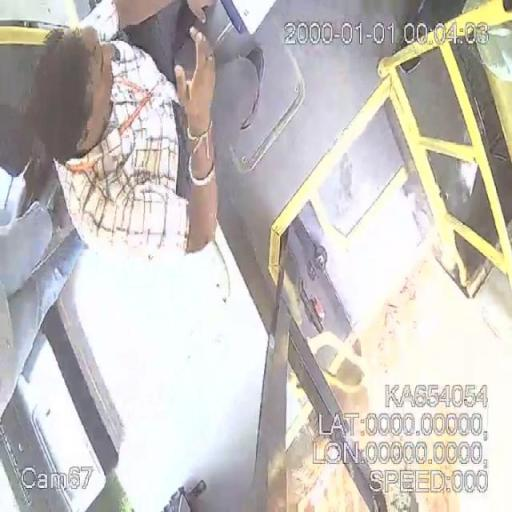persona: (20, 0, 226, 257)
